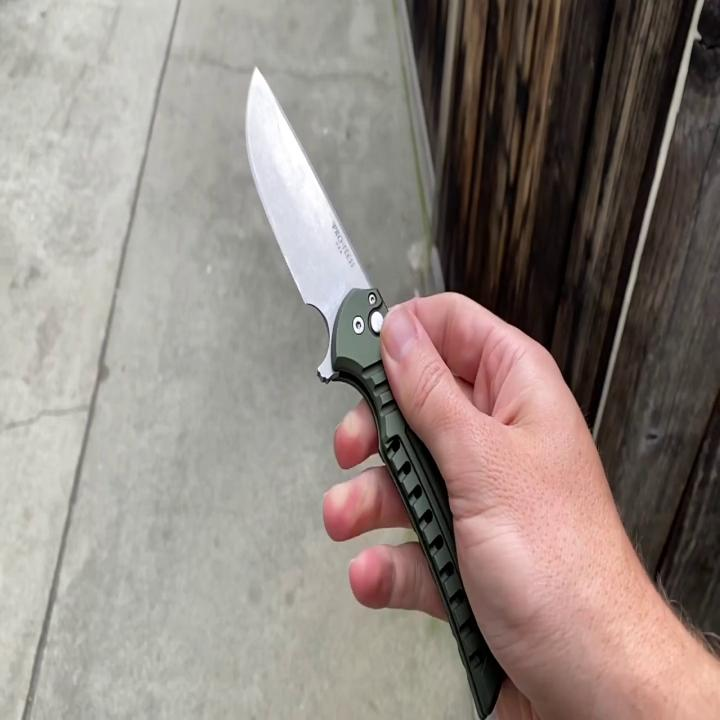knife: (240, 58, 510, 720)
